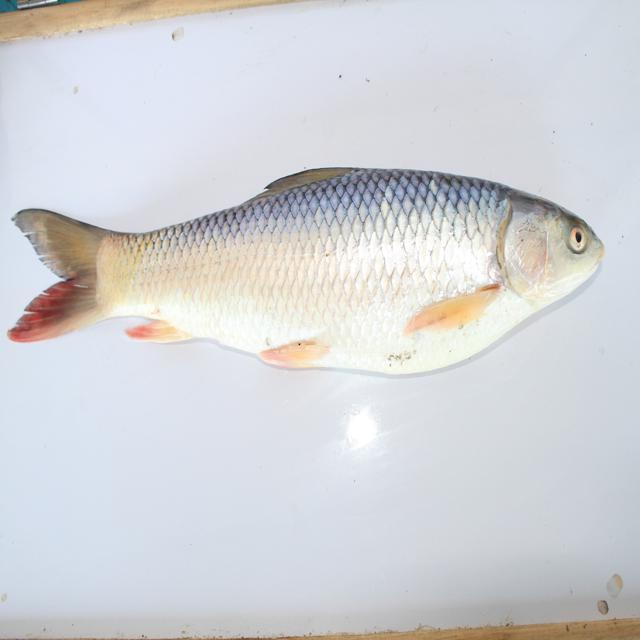Mori: (8, 158, 623, 398)
